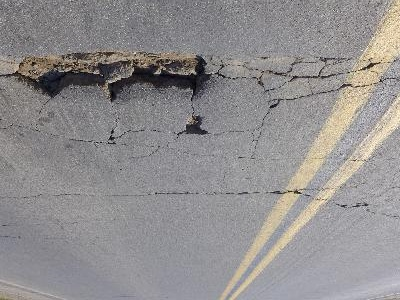pothole: (9, 49, 216, 104), (180, 114, 209, 138)
